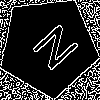N: (23, 21, 81, 80)
